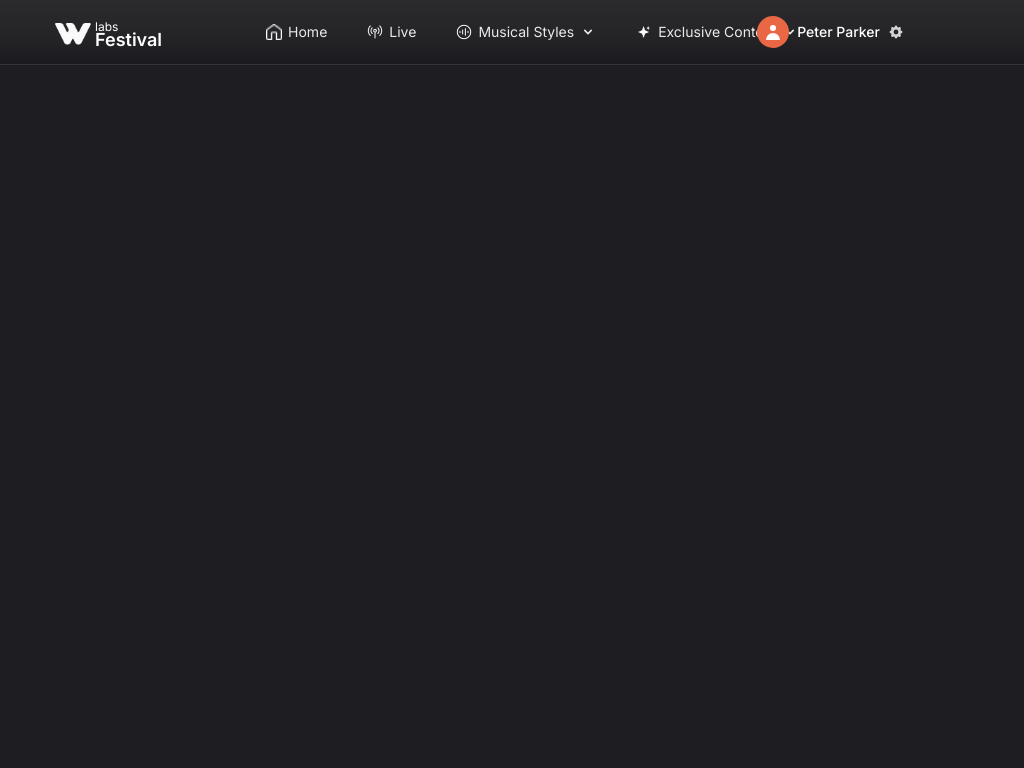
Test case: Header › fecha o modal ao clicar em uma opção
The image size is (1024, 768).
Click the button with aria-label "menu do usuário" at [831, 32], box x1=749 y1=10 x2=912 y2=54
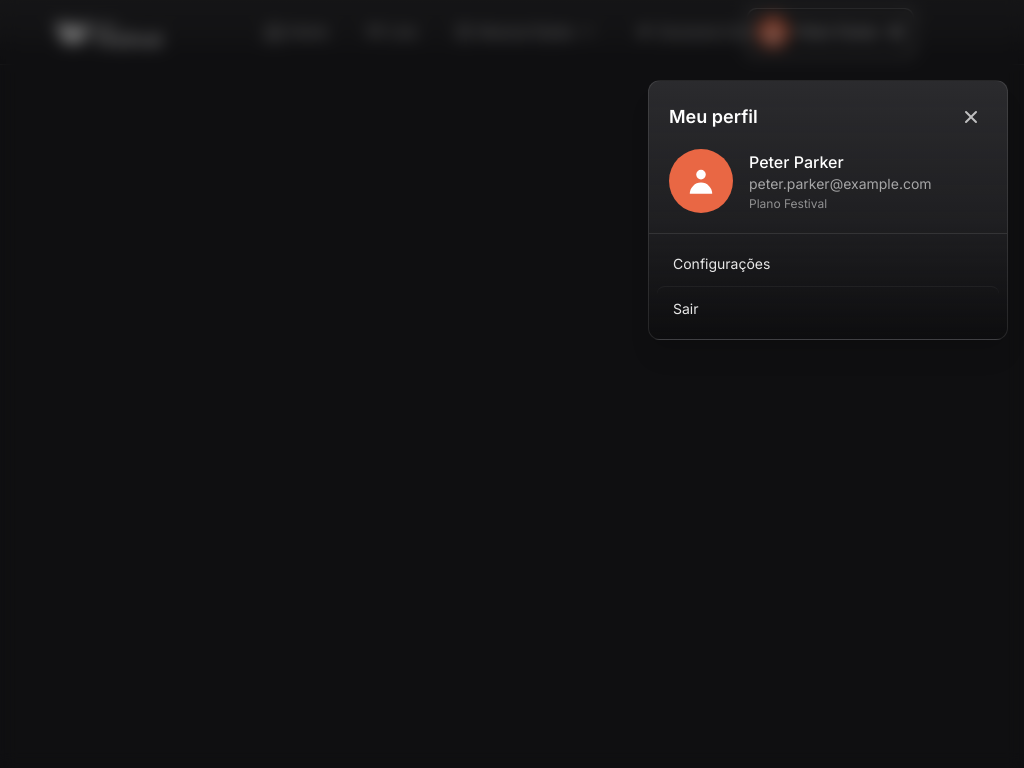
Check: the heading "Meu perfil" is shown, box x1=669 y1=103 x2=758 y2=131
Click the button "Configurações" at [722, 264], box x1=657 y1=242 x2=999 y2=286
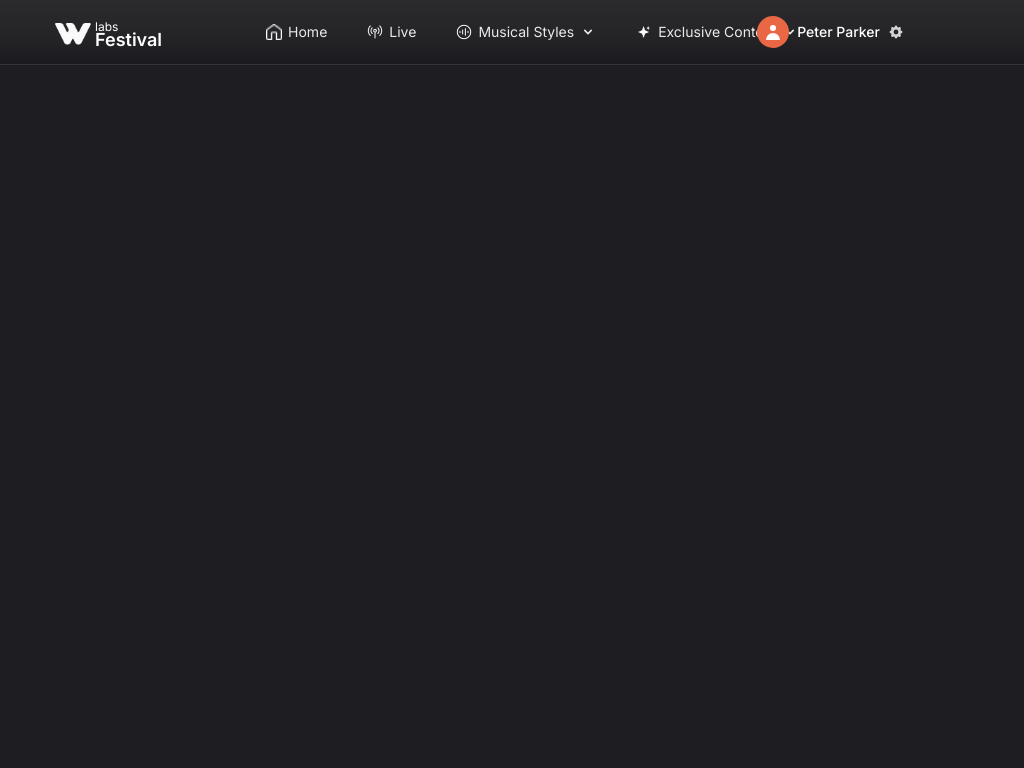
Check: the dialog is gone
